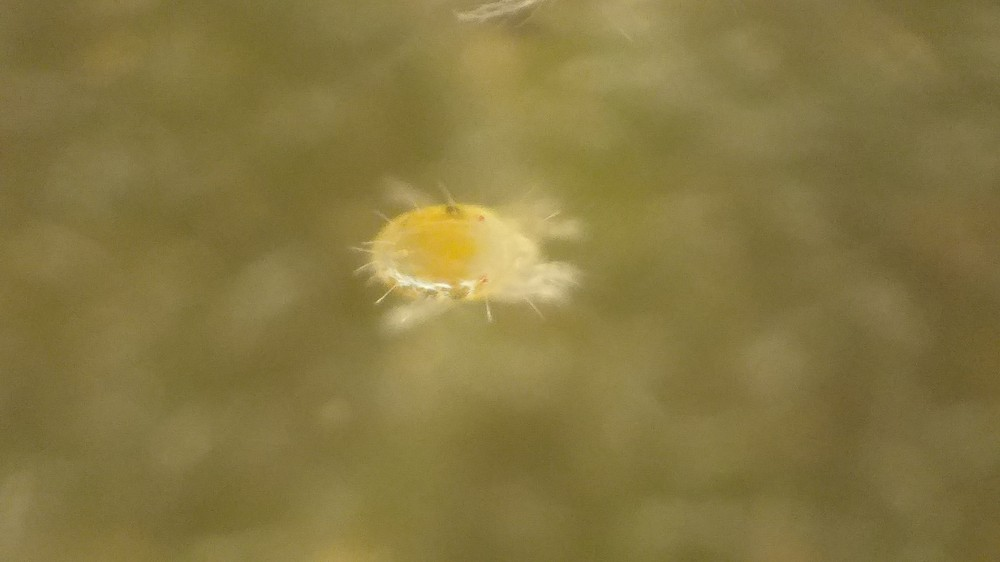Aracnido Rojo: (339, 159, 616, 346)
